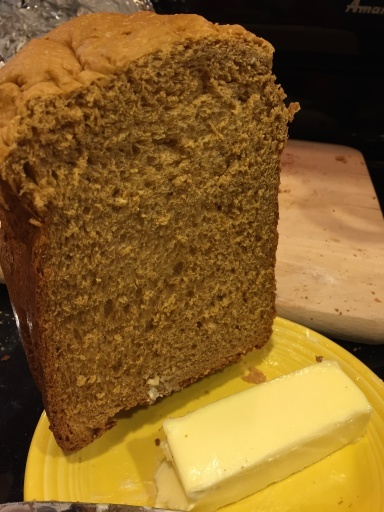background: (0, 6, 181, 362), (92, 122, 223, 409)
